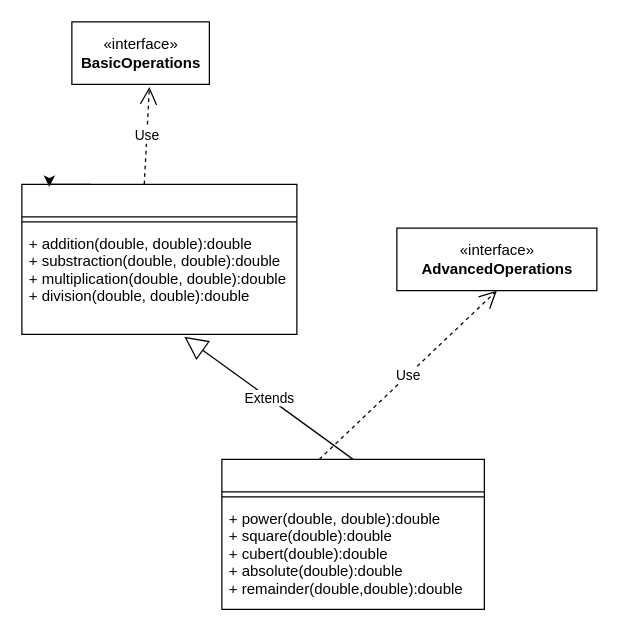
The diagram is 619 pixels wide and 635 high, and some of its shapes have lost their labels. Each missing label, with the box of its shape:
AdvancedCalculator: (221, 458, 484, 609)
BasicCalculator: (21, 183, 297, 334)
